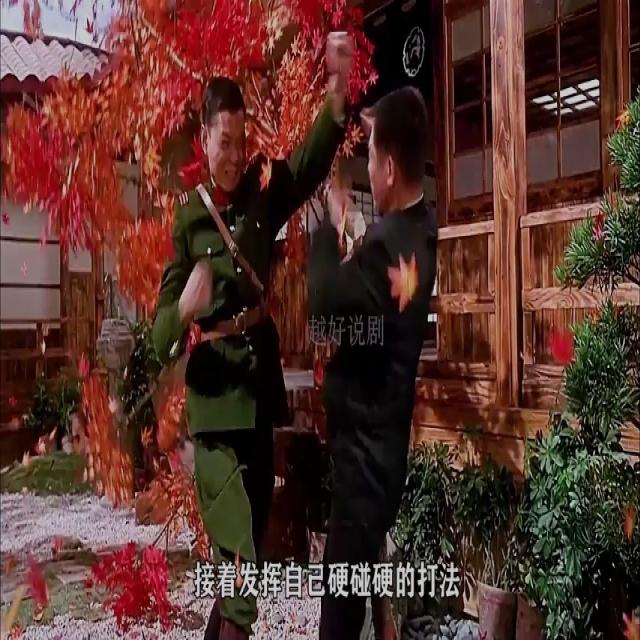fight: (152, 60, 446, 639)
